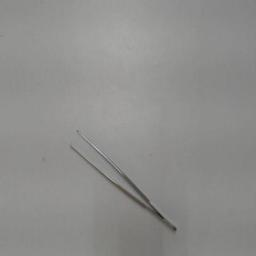Gillies Toothed Dissector: (70, 121, 182, 241)
